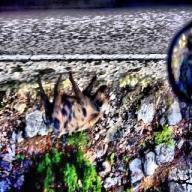boar: (36, 71, 110, 142)
